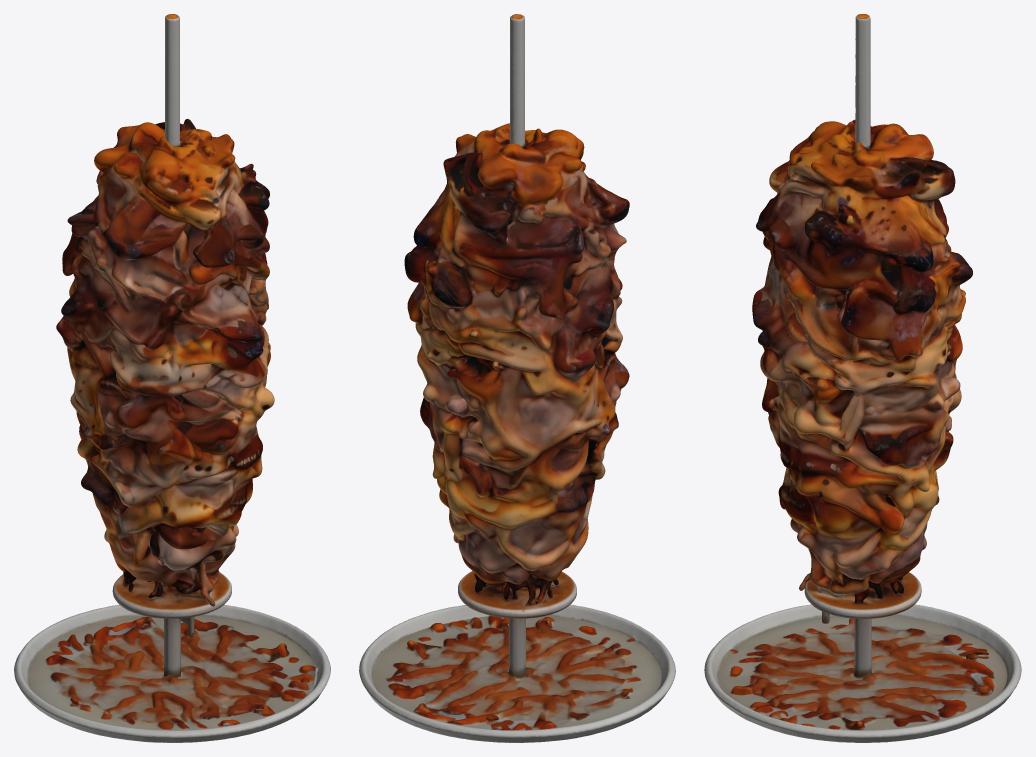
The model's file is rotisserie.glb.
The picture shows the model from 3 angles, left to right: view 1: azimuth 30°, elevation 25°; view 2: azimuth 150°, elevation 25°; view 3: azimuth 270°, elevation 25°; orthographic projection.
Visible parts, largest first — view 1: tripo_node_b12eccbb-36d8-4f09-9dac-f090333370b7; view 2: tripo_node_b12eccbb-36d8-4f09-9dac-f090333370b7; view 3: tripo_node_b12eccbb-36d8-4f09-9dac-f090333370b7.
Part boxes in pixels (x1=…): tripo_node_b12eccbb-36d8-4f09-9dac-f090333370b7: x1=14, y1=14, x2=330, y2=742; tripo_node_b12eccbb-36d8-4f09-9dac-f090333370b7: x1=359, y1=14, x2=675, y2=742; tripo_node_b12eccbb-36d8-4f09-9dac-f090333370b7: x1=704, y1=14, x2=1021, y2=742.
Size of the model in its own units: 0.433 by 1 by 0.4336.
1 material, 1 textured.
